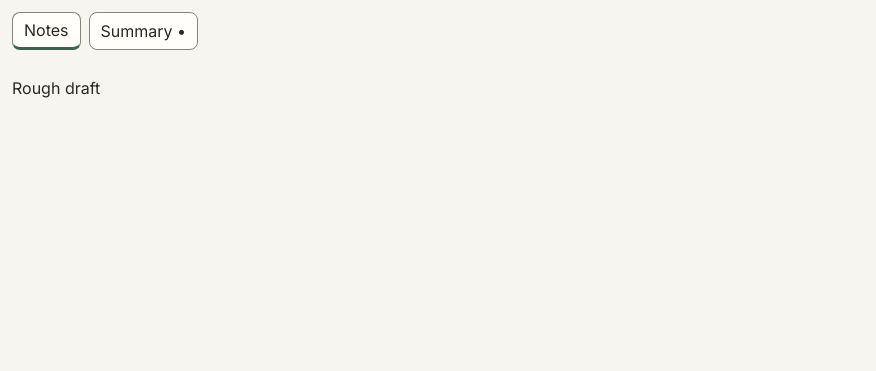
Test: notes tabs switch with click and keyboard and show only one representation
This screenshot has width=876, height=371.
Press ArrowRight in the tab "Notes", box [12,12,80,50]
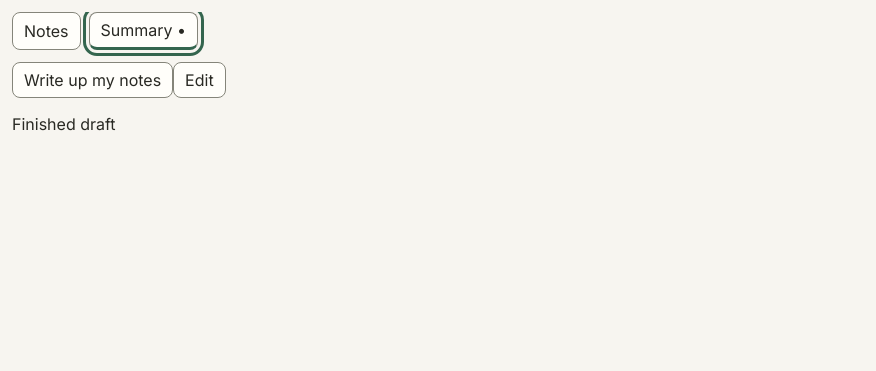
Expected: the panel shows "Finished draft", [12,114,116,134]
Click the button "Edit": (199, 80) [173,62,226,98]
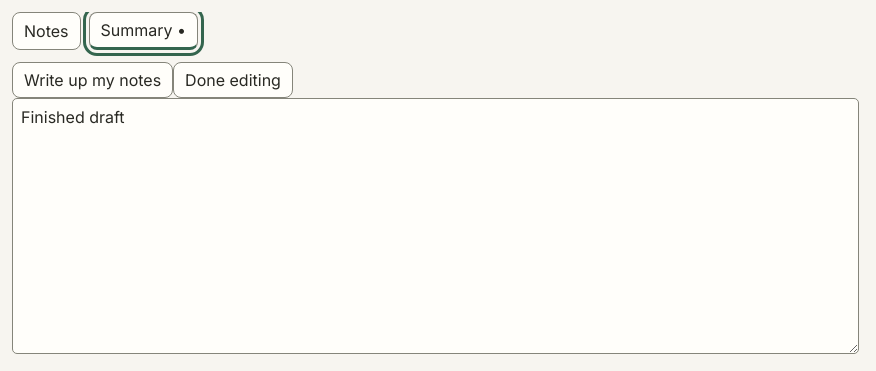
Expected: the text box is shown
